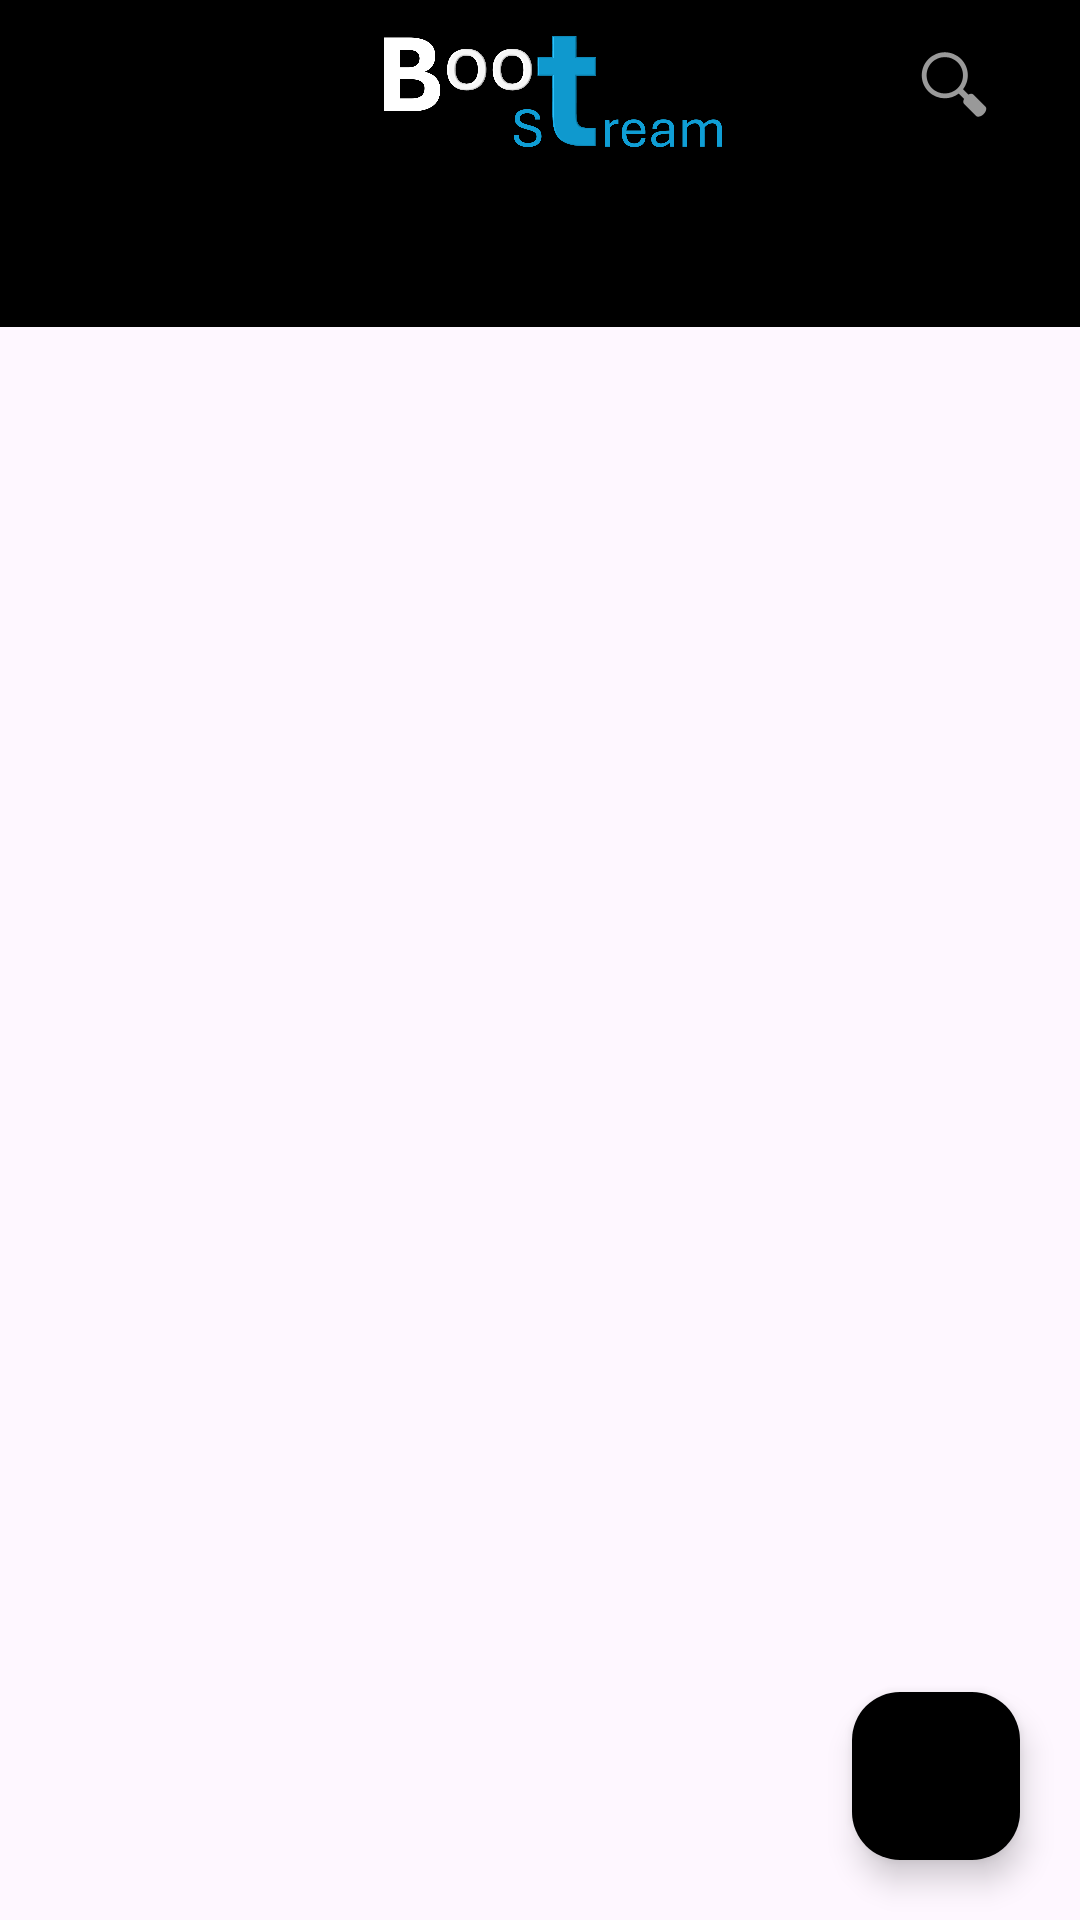

Point at icon controls on the screen. Image size 1080x1920, points as (x,y).
search: (954,84)
